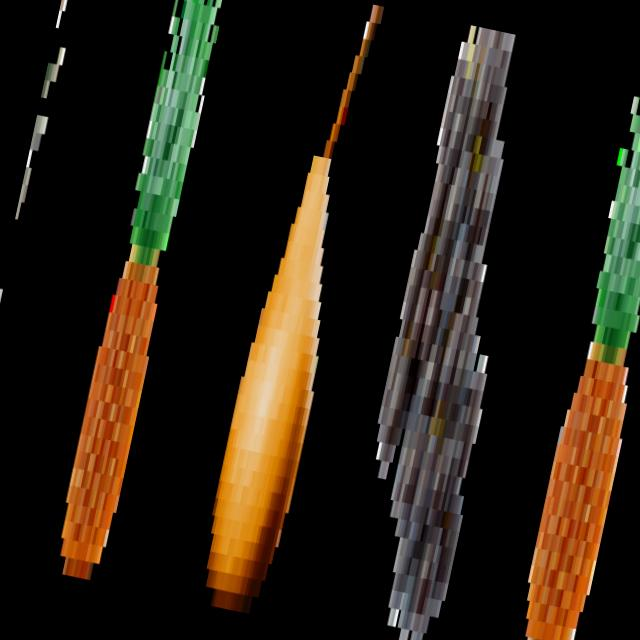grape: (324, 21, 574, 640)
pear: (178, 0, 409, 638)
pineapples: (45, 0, 236, 583), (507, 59, 640, 640)
